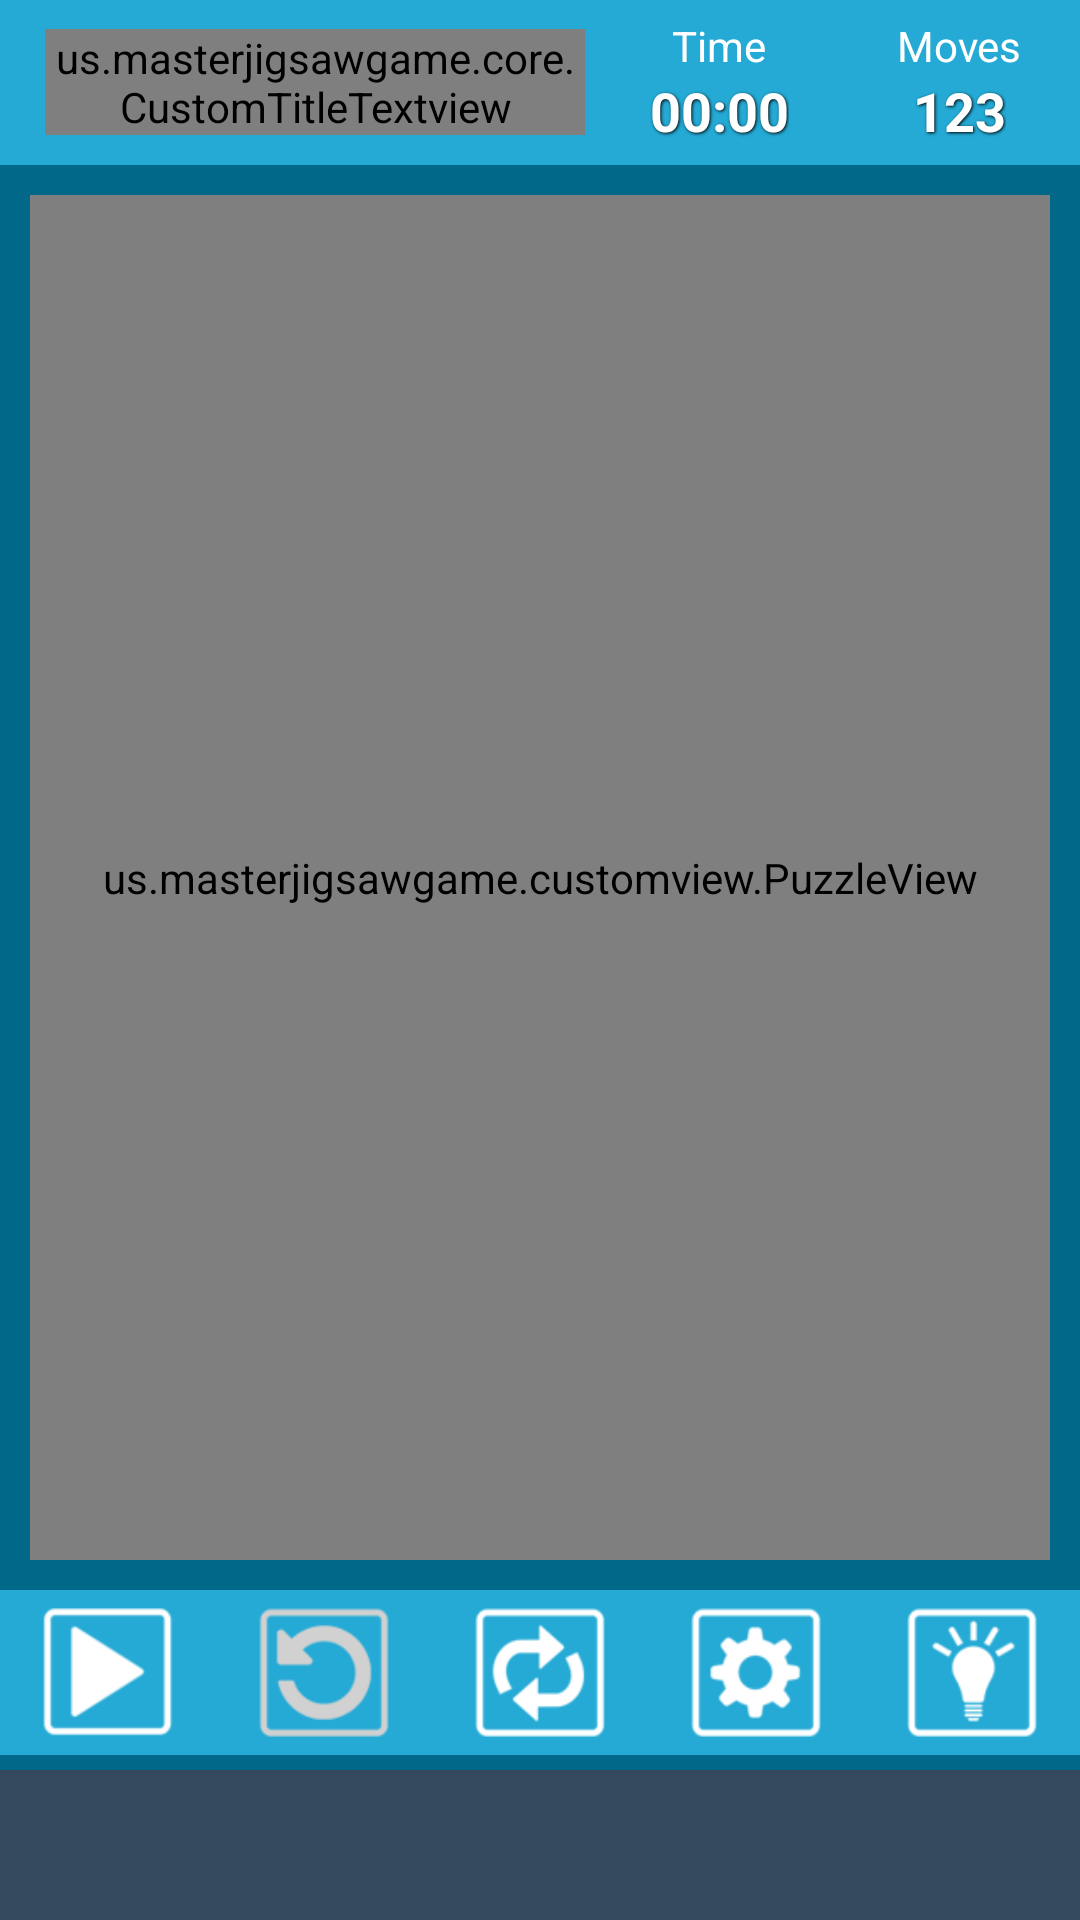

Icon click points for this 1080x1920 phone screenshot, format [x,y]:
back step off: [324,1672]
hint: [972,1672]
play: [107,1672]
reload: [540,1672]
setting: [756,1672]
